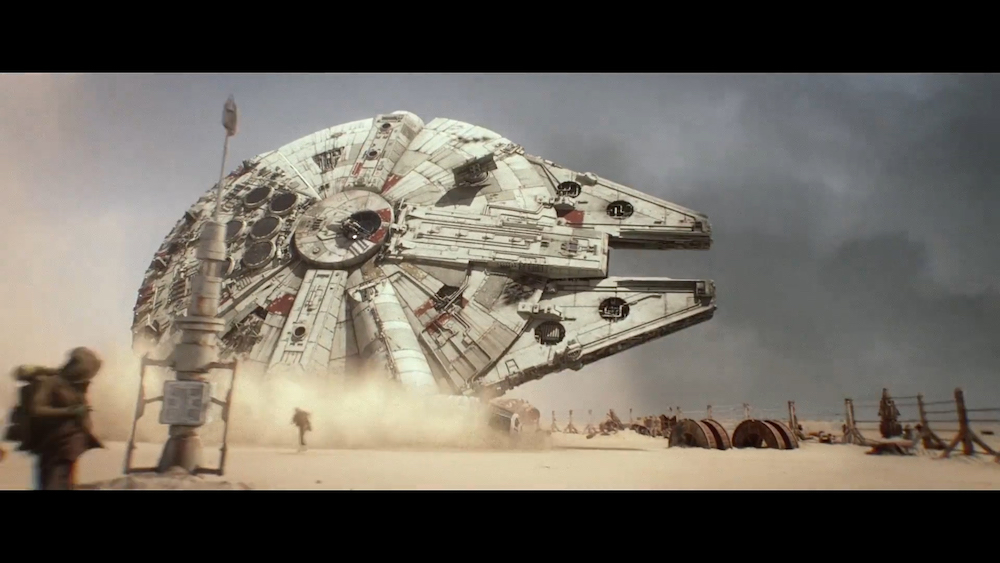Millennium Falcon: (132, 110, 716, 448)
